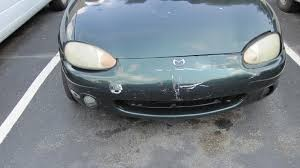Scratch: (155, 70, 210, 97), (108, 82, 125, 94)
